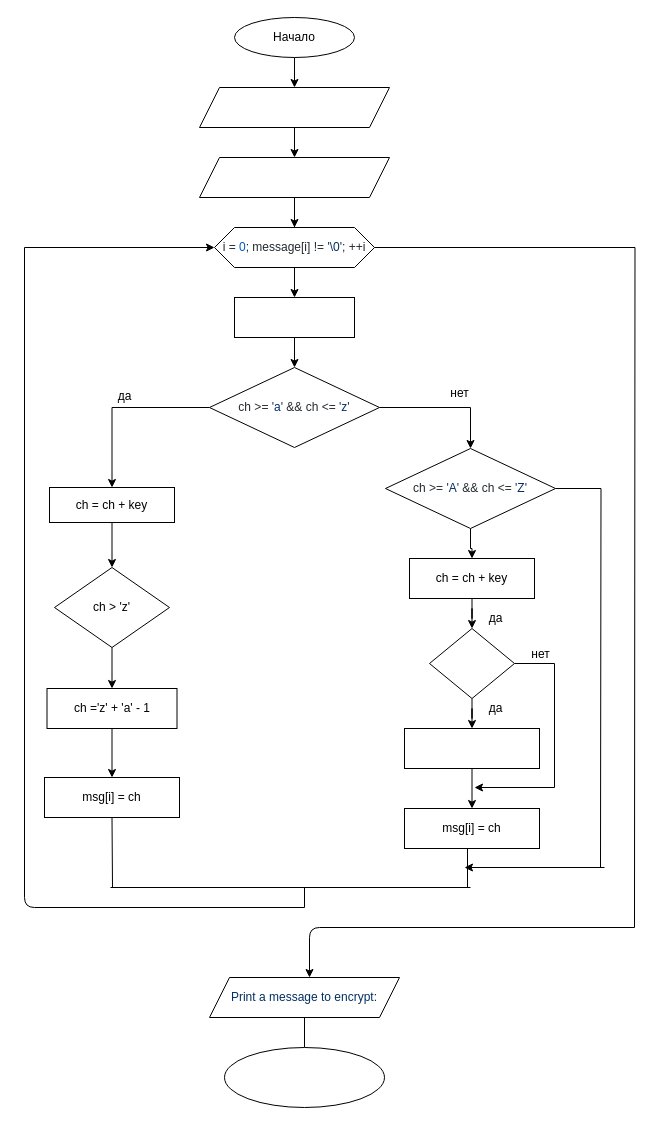
Some shapes in this 660 by 1125 pixel diagram are drawn without their labels. Here are the shapes that lost their labels. From the top down, the box of each, then its label:
(198, 86, 390, 128): Enter a message to encrypt:
(198, 156, 390, 198): Enter key:
(234, 296, 354, 338): ch=msg[i]
(428, 628, 514, 698): ch > Z
(404, 728, 540, 768): ch = ch 'Z' + 'A' - 1
(224, 1046, 384, 1108): Конец
